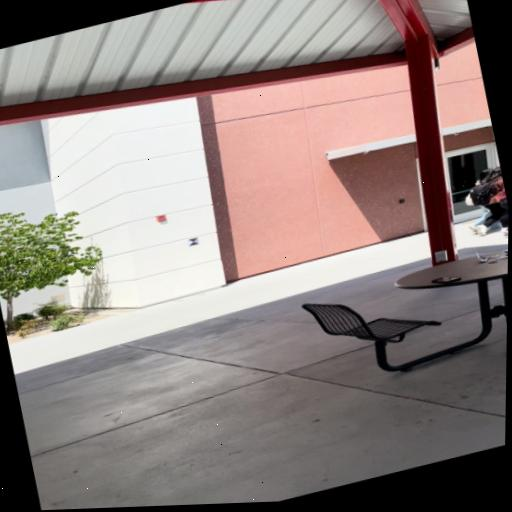target6: (187, 236, 200, 246)
